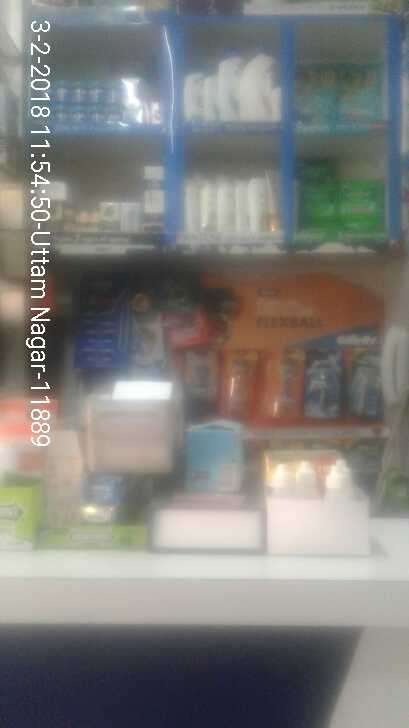vicks: (46, 74, 162, 124)
